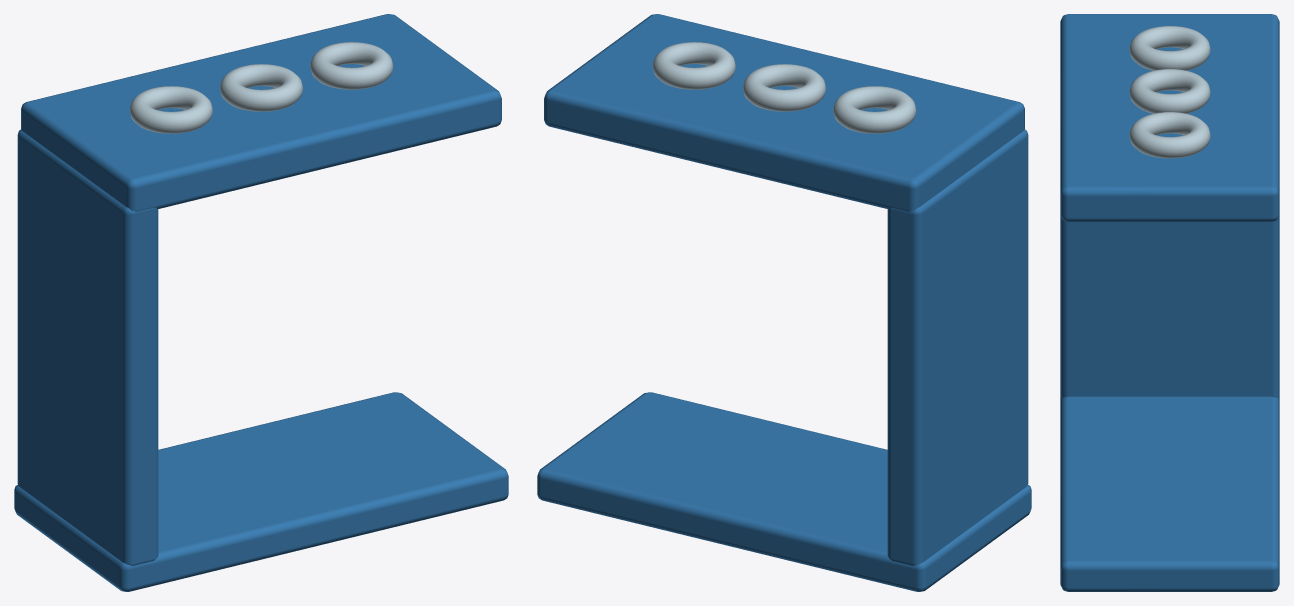
The model's file is drill-gauge.glb.
3 views of the same model, side by side, from view 1: azimuth 30°, elevation 25°; view 2: azimuth 150°, elevation 25°; view 3: azimuth 270°, elevation 25° (orthographic). The views are drawn at different scales.
Parts seen in each view (by area): view 1: drill-gauge; view 2: drill-gauge; view 3: drill-gauge.
Part boxes in pixels (bbox=[...]): drill-gauge: bbox=[14, 14, 508, 591]; drill-gauge: bbox=[537, 14, 1031, 591]; drill-gauge: bbox=[1060, 14, 1279, 591].
Size of the model in its own units: 2.8 by 2.96 by 1.4.
